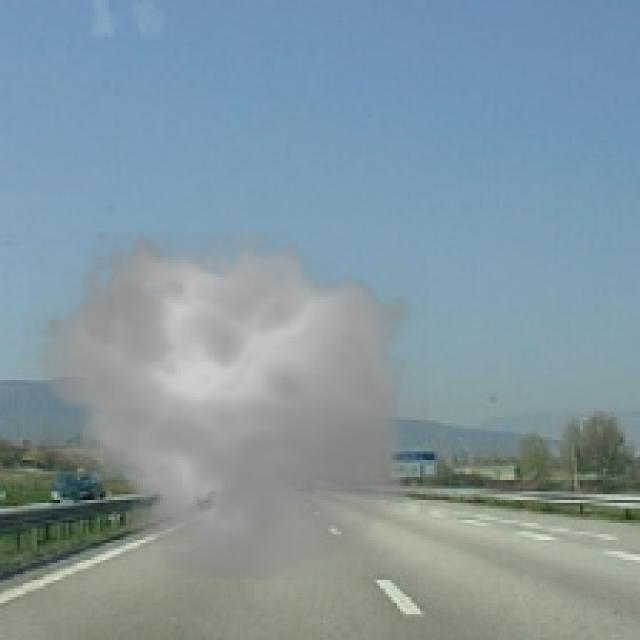smoke: (23, 215, 428, 594)
